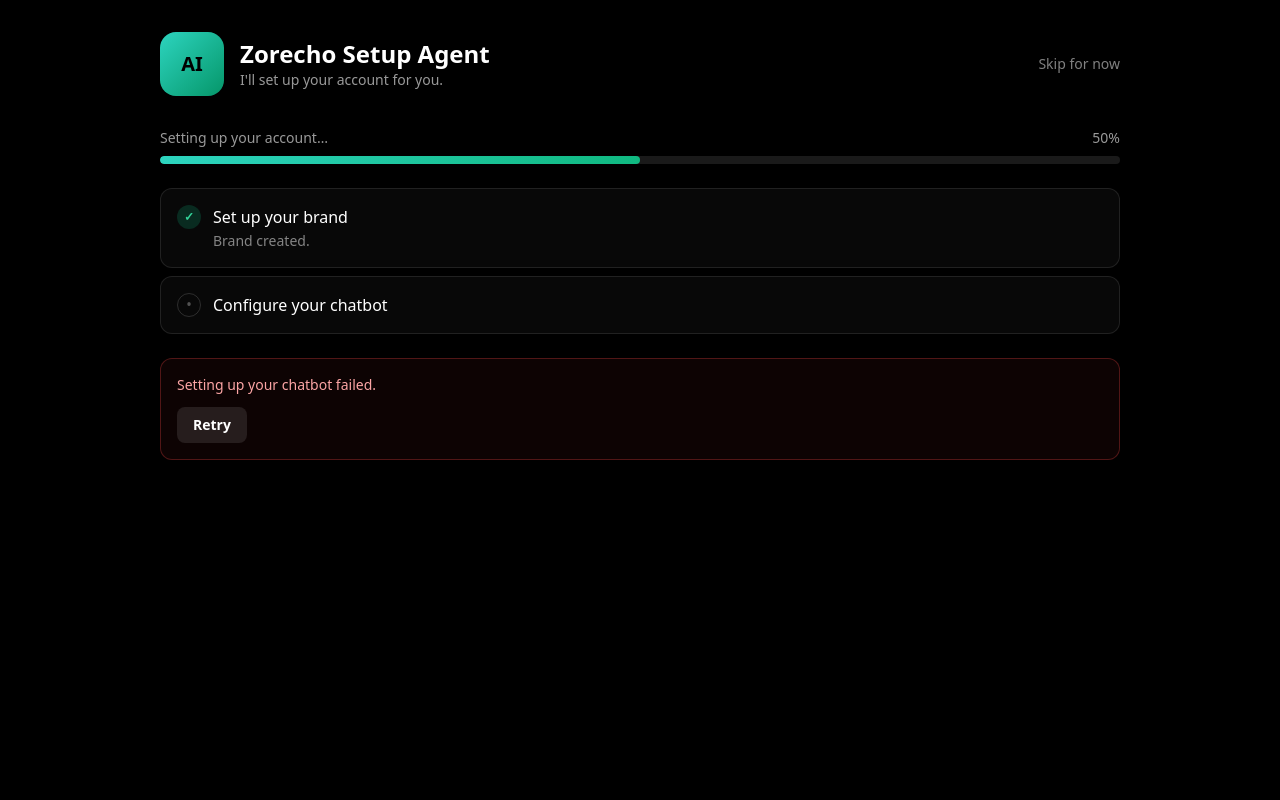
Test case: SetupAgent in-run failure retry (progress is preserved) › a non-raced step failure shows Retry, which resumes without losing done steps
The width and height of the screenshot is (1280, 800).
Expected: the text "Setting up your chatbot failed." is shown, [177,375,376,394]
Expected: the text "Setting up your account…" is shown, [160,128,328,148]
Click the button "Retry". click: {"x": 212, "y": 425}
box: [177,407,247,443]
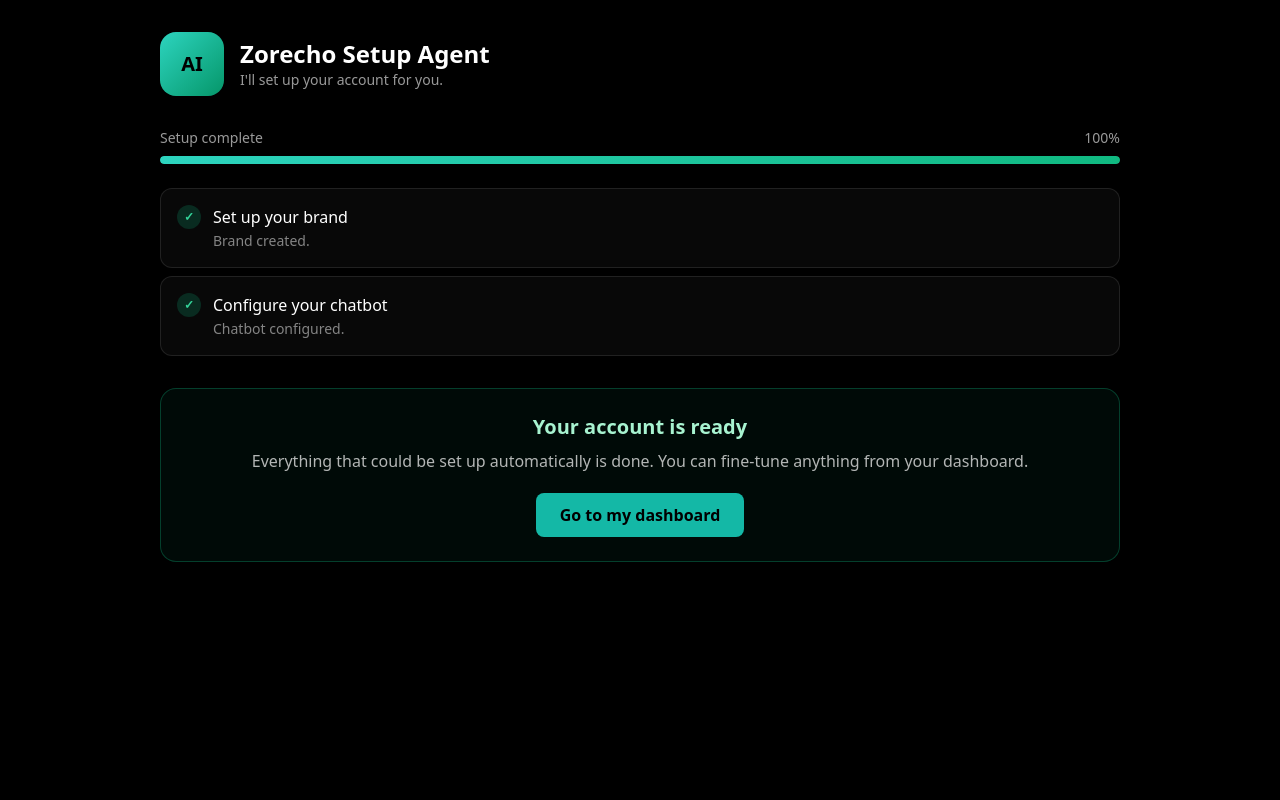
Expected: the heading "Your account is ready" is shown, [533,413,747,440]
Expected: the text "Chatbot configured." is shown, [213,319,344,338]
Expected: the text "Setting up your chatbot failed." is gone
